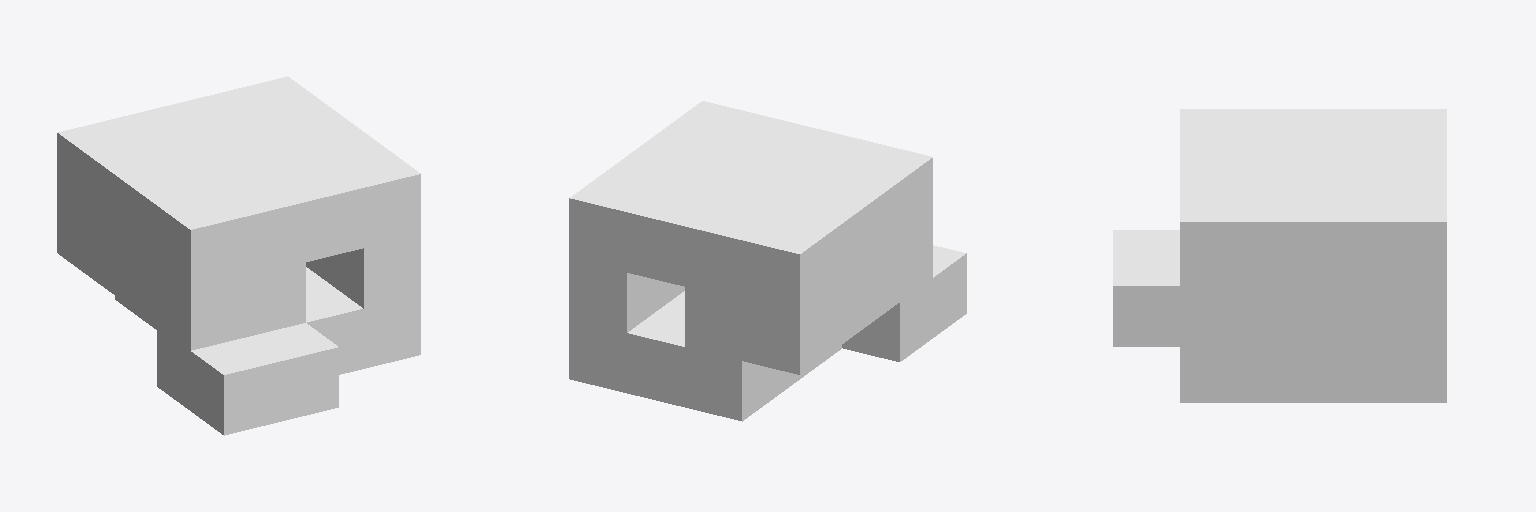
Rendered from male-43.obj.
3 views of the same model, side by side, from view 1: azimuth 30°, elevation 25°; view 2: azimuth 150°, elevation 25°; view 3: azimuth 270°, elevation 25° (orthographic).
Visible parts, largest first — view 1: object 1; view 2: object 1; view 3: object 1.
Boxes of the visible parts, x1=… form: object 1: x1=57, y1=76, x2=420, y2=435; object 1: x1=569, y1=101, x2=966, y2=421; object 1: x1=1113, y1=109, x2=1446, y2=402.
Bounding box in the file's own units: 0.4 × 0.3 × 0.5.